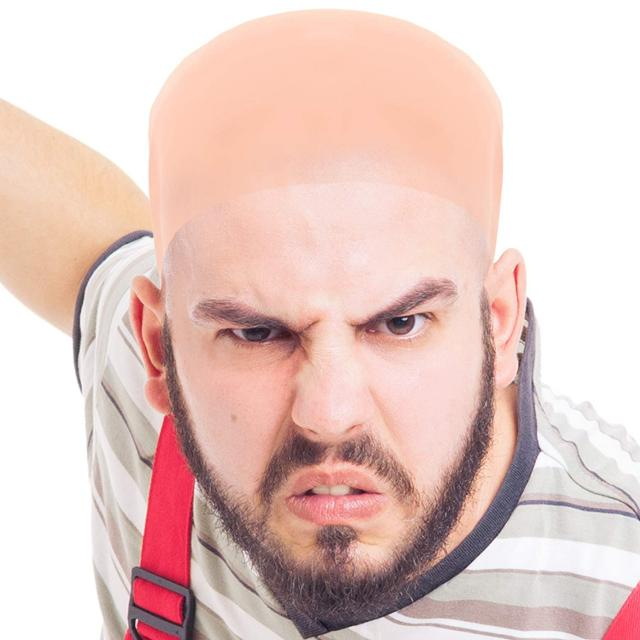bald: (125, 3, 533, 338)
